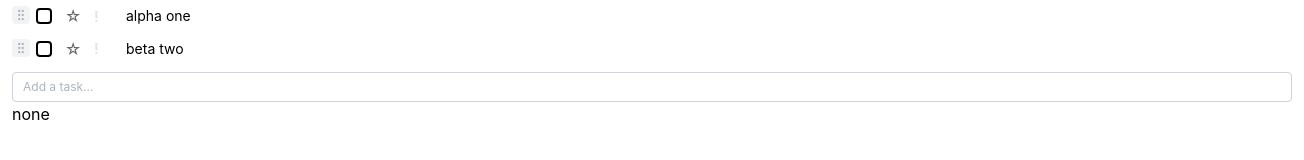
Test: TaskList › disables drag outside custom/priority/state with a hint
Expected: the text "beta two" is shown, [126,40,184,57]
Step 1. Hover over the button named "Drag to reorder alpha one" → coordinates (21, 15), box [12,6,30,24]
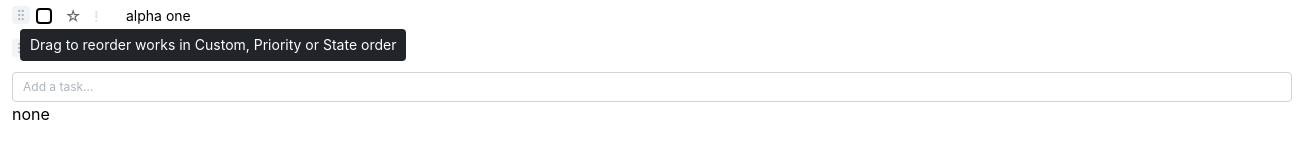
Expected: the tooltip "Drag to reorder works in Custom, Priority or State order" is shown, [20,29,406,61]
